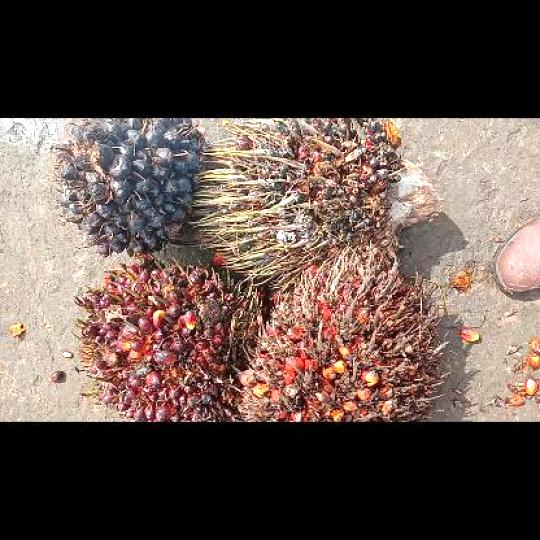masak: (77, 255, 264, 420)
terlalu masak: (236, 241, 440, 421)
